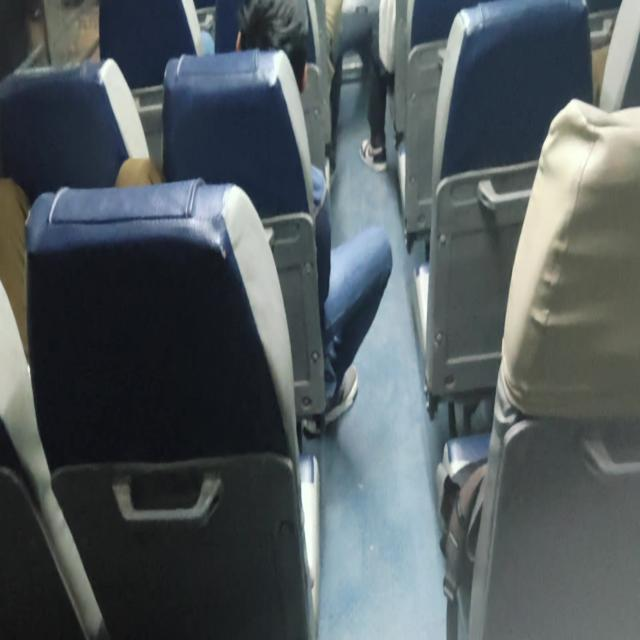person: (221, 0, 319, 103)
